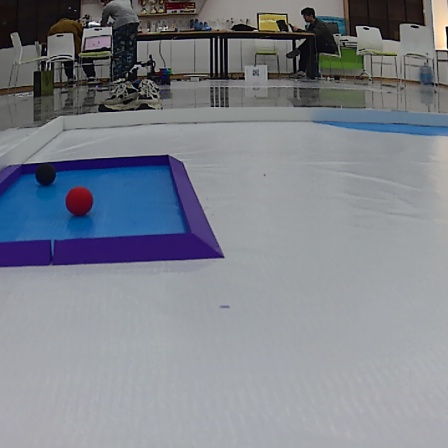black: (37, 166, 57, 186)
blue_aim: (0, 154, 232, 264)
blue_base: (307, 115, 448, 137)
red: (66, 188, 93, 218)
